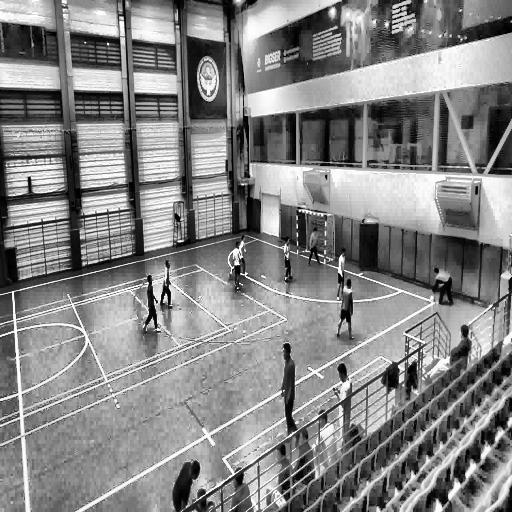ball: (430, 294, 436, 305)
player: (280, 342, 298, 444), (336, 278, 354, 339), (143, 274, 160, 333), (230, 233, 250, 279), (160, 257, 174, 312), (433, 266, 452, 306), (336, 244, 349, 300), (230, 239, 243, 293), (307, 226, 321, 268), (283, 237, 293, 283)
